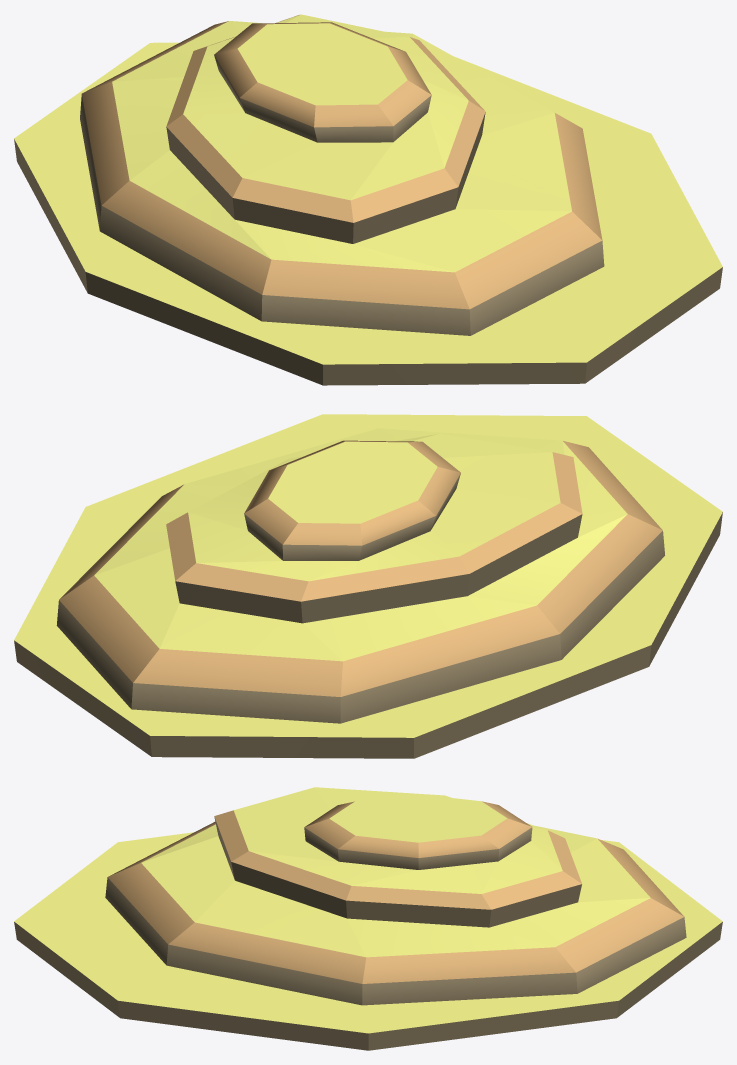
The model's file is Rock_Shelf5.fbx.
3 views of the same model, one above another, from view 1: azimuth 30°, elevation 25°; view 2: azimuth 150°, elevation 25°; view 3: azimuth 270°, elevation 25° (orthographic). The views are drawn at different scales.
Parts seen in each view (by area): view 1: Rock_Shelf5a; view 2: Rock_Shelf5a; view 3: Rock_Shelf5a.
Boxes of the visible parts, x1,y1,x2,y2 form: Rock_Shelf5a: [14, 14, 722, 385]; Rock_Shelf5a: [14, 414, 722, 758]; Rock_Shelf5a: [14, 787, 722, 1050].
Size of what is drawn, in the model's own units: 8258 by 2007 by 11042.
